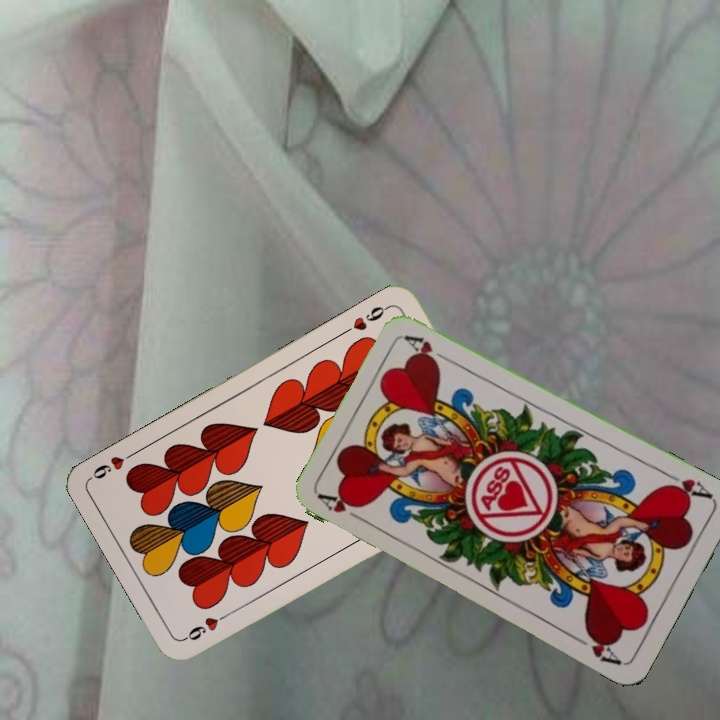H9: (180, 607, 234, 644), (339, 301, 393, 337)
HA: (316, 490, 371, 527), (660, 467, 715, 502)
